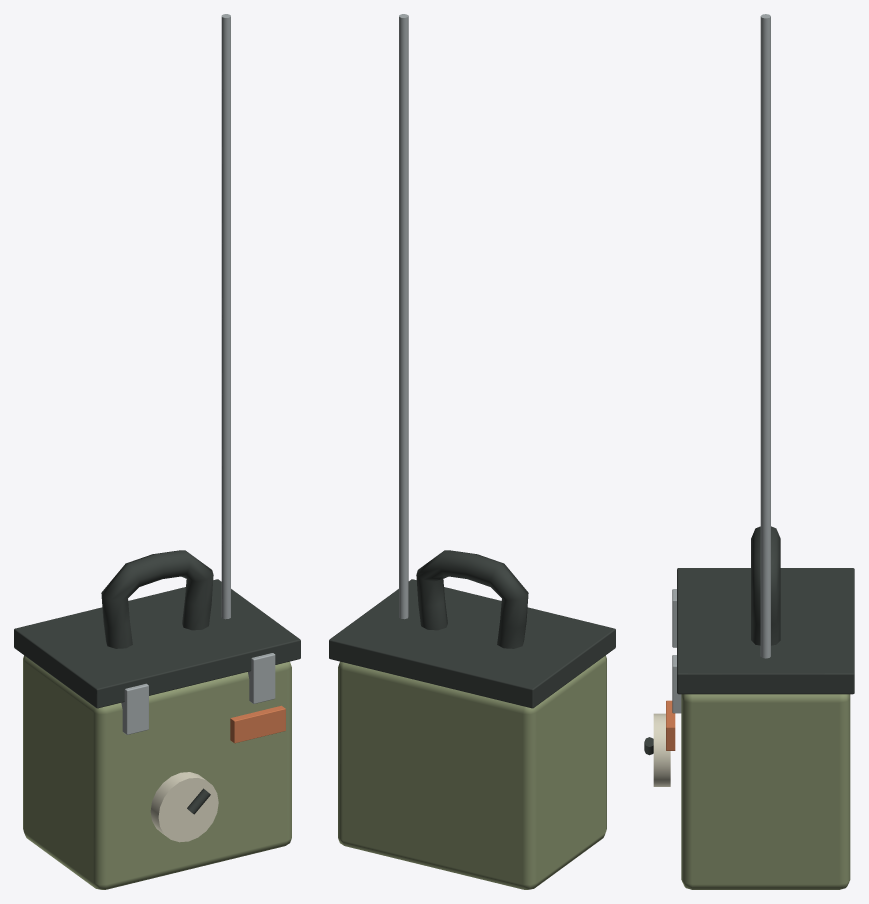
Rendered from extraction-routes-and-objectives-portable-radio-beacon-f2154ea3__22146.glb.
3 renders of one model, left to right at view 1: azimuth 30°, elevation 25°; view 2: azimuth 150°, elevation 25°; view 3: azimuth 270°, elevation 25°, orthographic. The views are drawn at different scales.
Visible parts, largest first — view 1: portable-radio-beacon, lid/dark; view 2: portable-radio-beacon, lid/dark; view 3: portable-radio-beacon, lid/dark.
Boxes of the visible parts, x1,y1,x2,y2 form: portable-radio-beacon: (23,14,291,889); lid/dark: (14,579,300,708); portable-radio-beacon: (338,14,606,889); lid/dark: (329,579,615,708); portable-radio-beacon: (644,14,850,889); lid/dark: (677,568,854,694).
Size of the model in its own units: 0.238 by 0.9 by 0.199.
